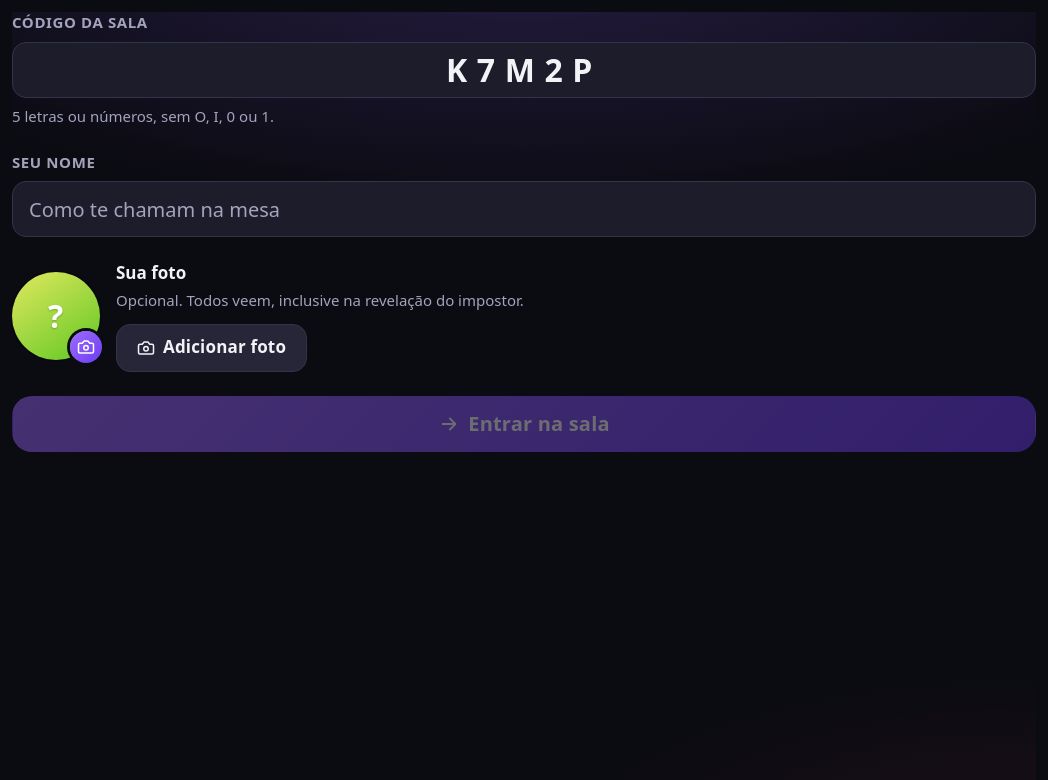
Test case: JoinRoomForm › shows the message for match_in_progress
This screenshot has width=1048, height=780.
In the field labelled "Seu nome": (524, 209) [12,181,1036,237], type "Bia"
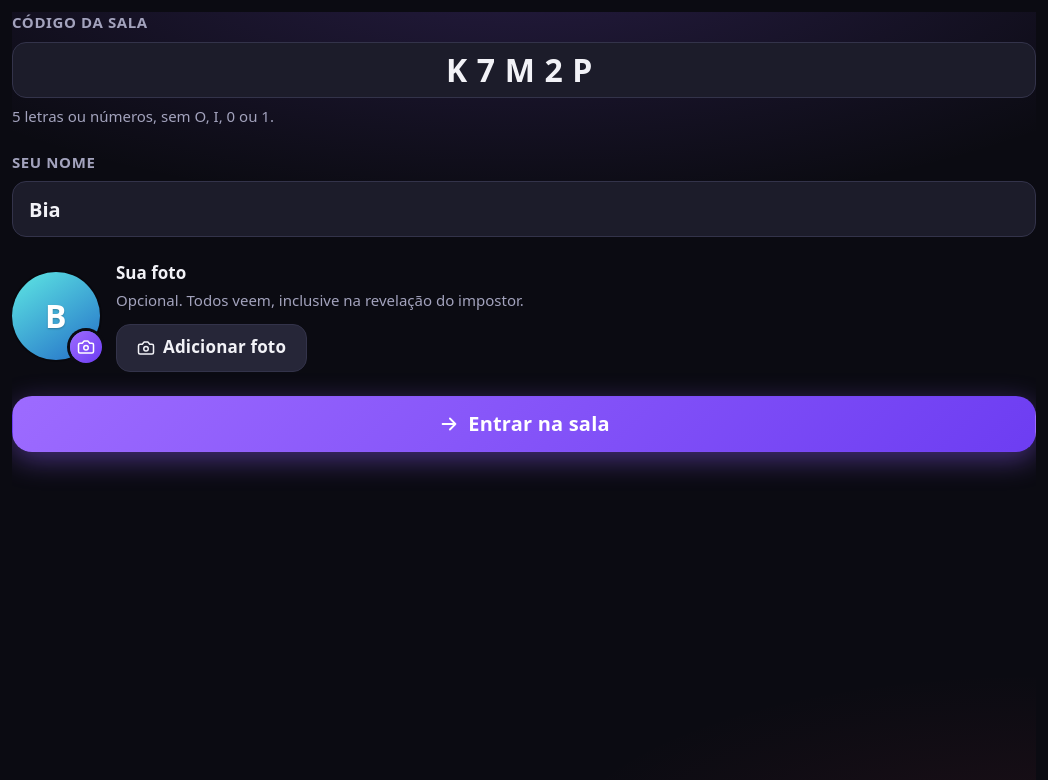
Click the button "Entrar na sala": (524, 424) [12,396,1036,452]
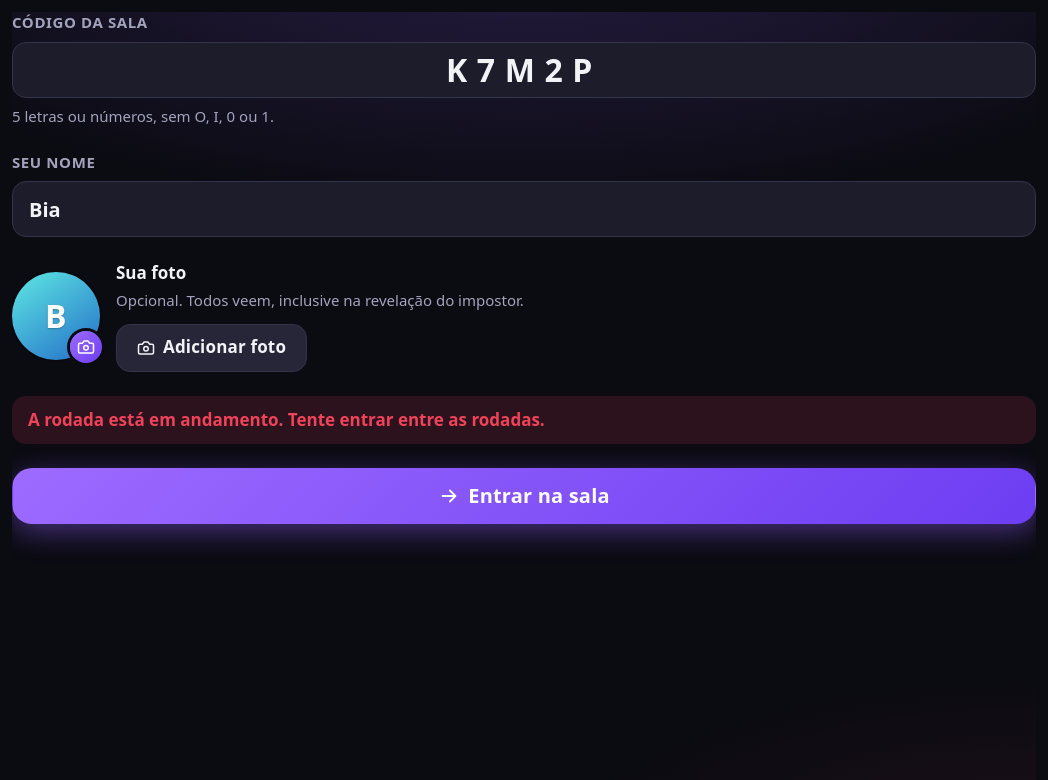
Now the message shows "A rodada está em andamento", box [28,408,545,431]
